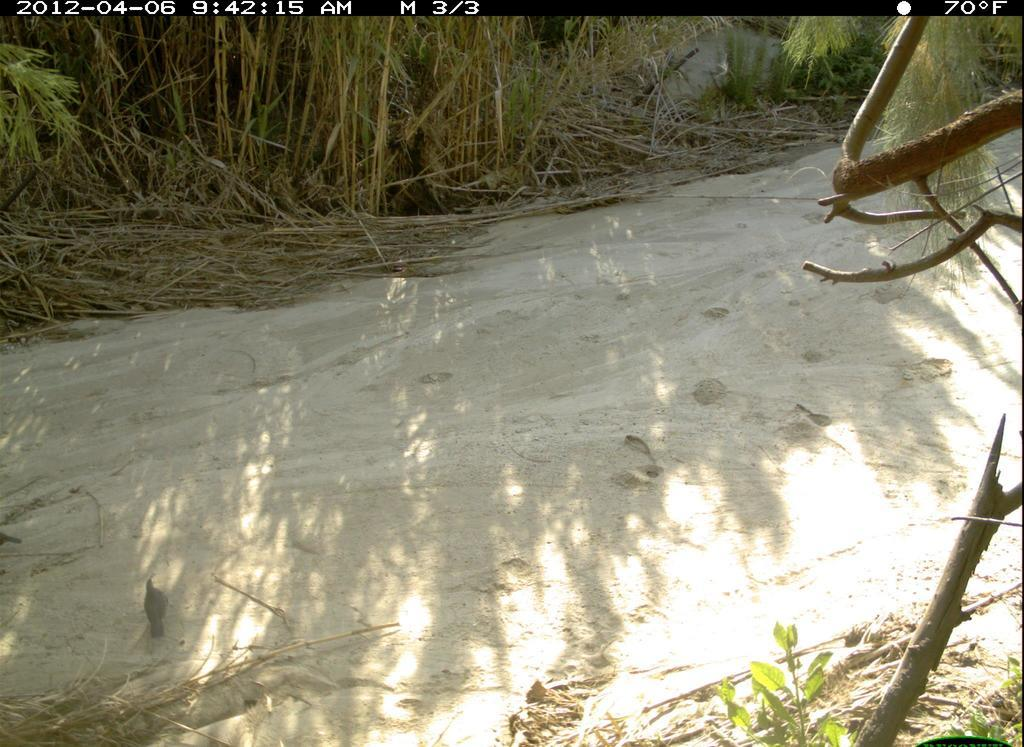bird: (139, 575, 173, 643)
